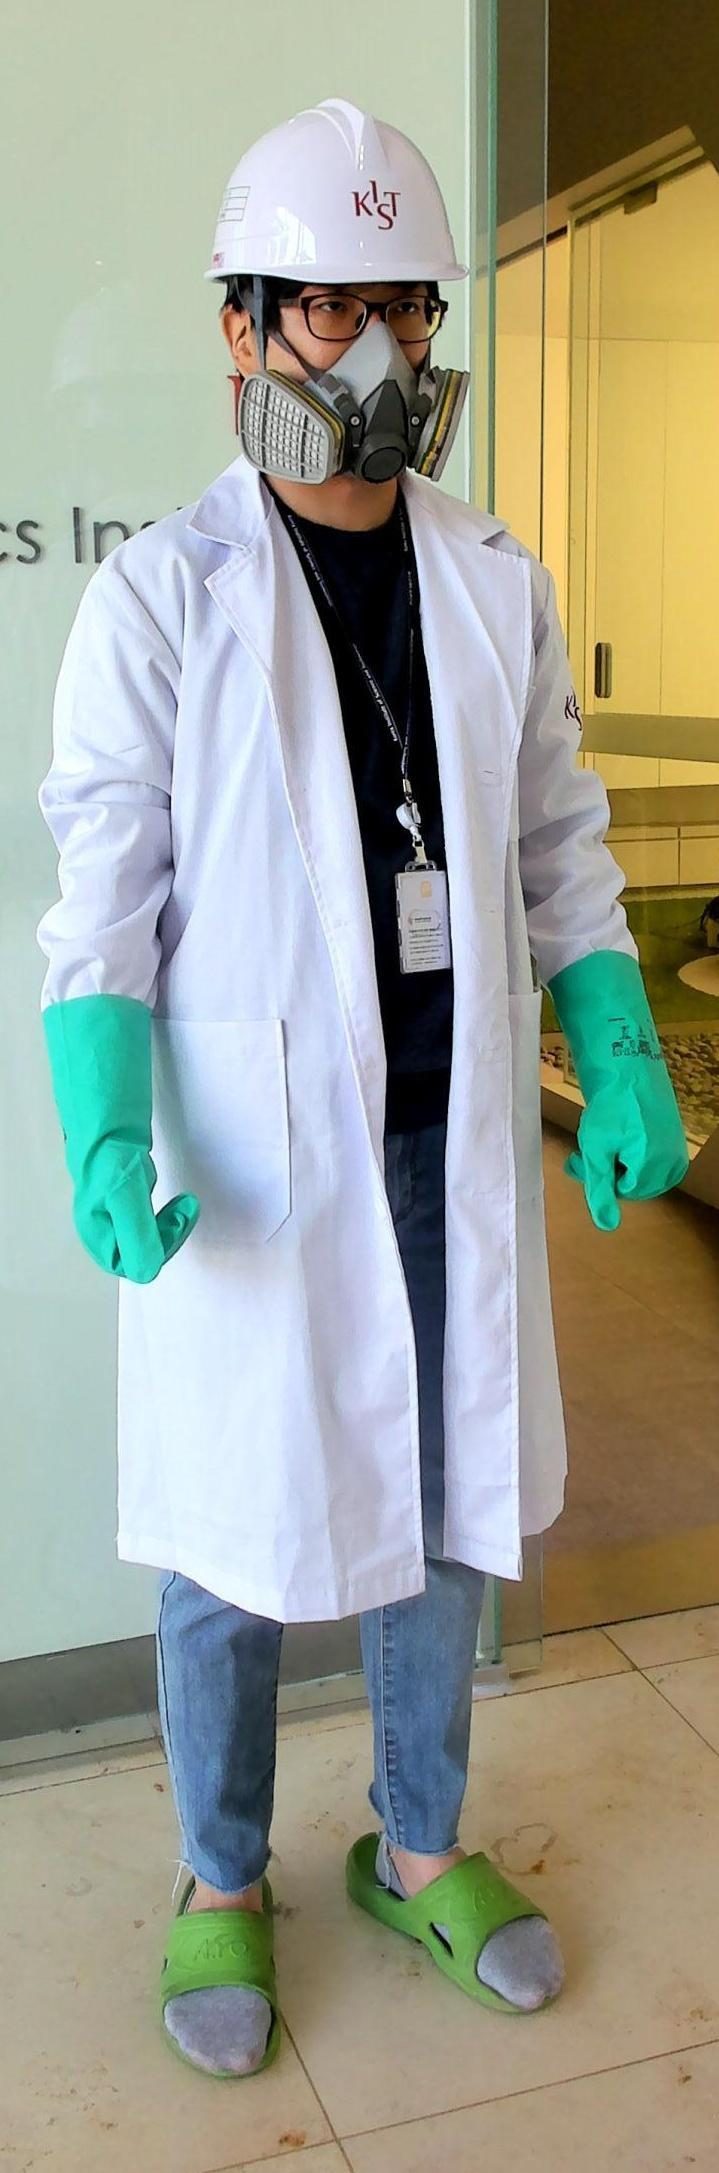lab_coat: (158, 527, 561, 1590)
